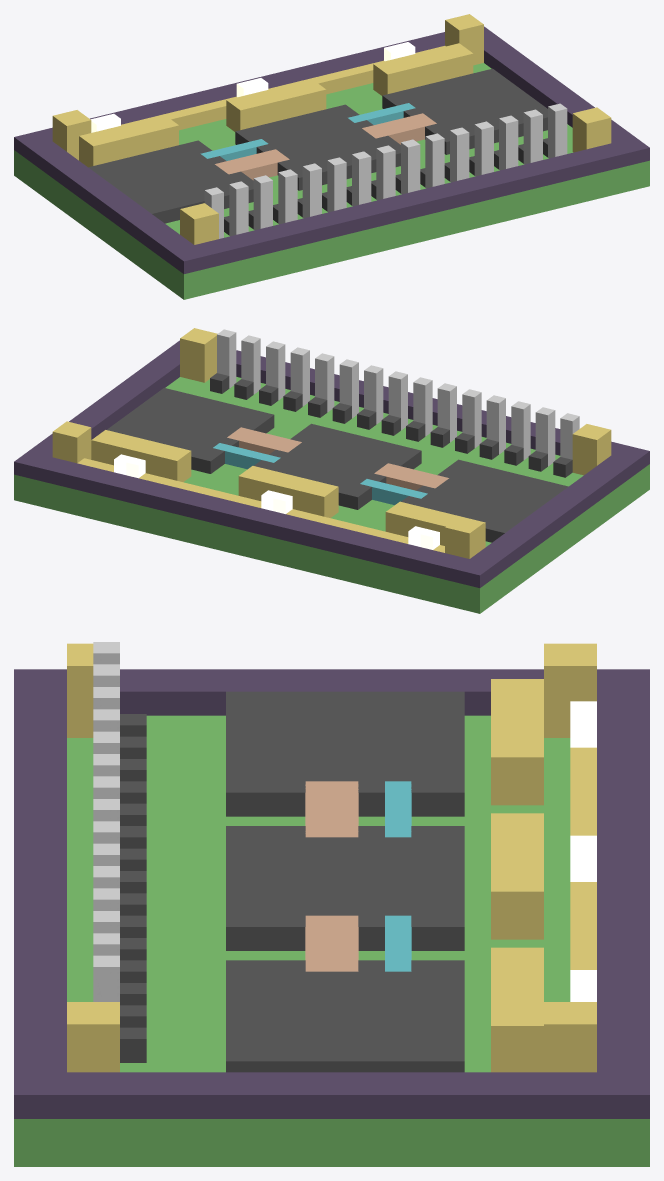
Rendered from workbench_pcb.glb.
3 renders of one model, top to bottom at view 1: azimuth 30°, elevation 25°; view 2: azimuth 150°, elevation 25°; view 3: azimuth 270°, elevation 25°, orthographic. The views are drawn at different scales.
Parts seen in each view (by area): view 1: WorkbenchPCB; view 2: WorkbenchPCB; view 3: WorkbenchPCB.
Boxes of the visible parts, x1,y1,x2,y2 form: WorkbenchPCB: (14,14,649,299); WorkbenchPCB: (14,328,649,613); WorkbenchPCB: (14,642,649,1166).
Size of the model in its own units: 0.38 by 0.06 by 0.24.
